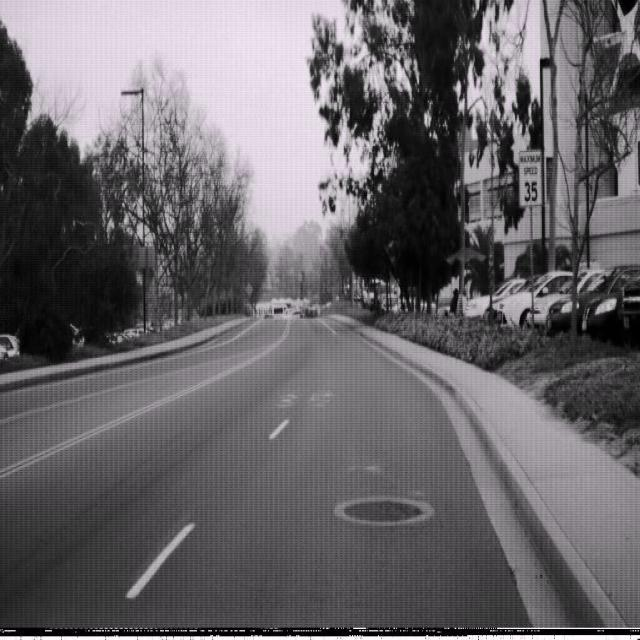speedLimit35: (518, 148, 542, 208)
